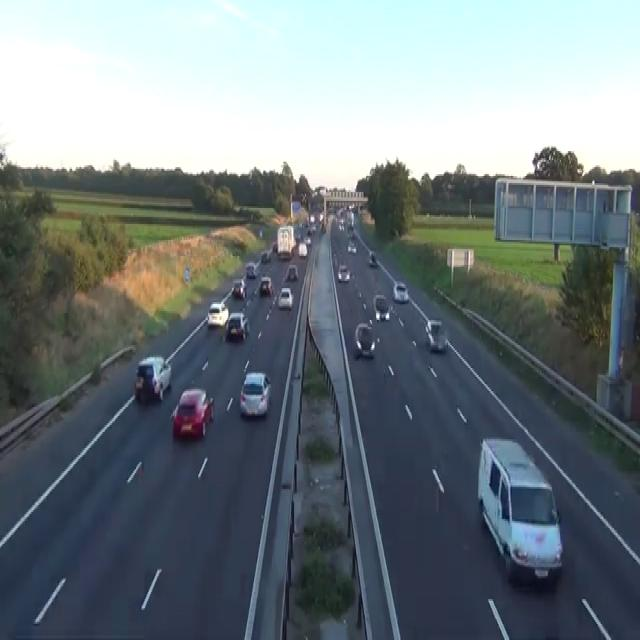Car: (170, 386, 214, 439), (133, 356, 171, 404), (239, 372, 271, 416), (425, 318, 447, 352), (225, 311, 250, 340), (355, 322, 375, 357), (206, 301, 228, 327), (373, 293, 389, 322), (277, 286, 293, 310), (392, 281, 408, 302), (231, 277, 246, 299), (259, 275, 273, 297), (337, 263, 350, 281), (287, 263, 298, 281), (245, 262, 256, 278), (297, 242, 307, 258), (260, 249, 271, 263), (369, 249, 377, 267), (183, 266, 190, 284), (347, 240, 356, 252), (294, 229, 302, 242), (347, 224, 354, 238), (307, 224, 315, 235), (300, 192, 307, 204), (446, 182, 454, 190), (305, 235, 311, 245), (272, 240, 277, 252), (338, 220, 344, 230), (332, 251, 336, 265), (347, 230, 354, 238), (309, 214, 315, 222), (321, 224, 326, 233), (319, 212, 323, 222), (259, 228, 262, 236)
Truck: (477, 436, 563, 586), (276, 224, 295, 260)
